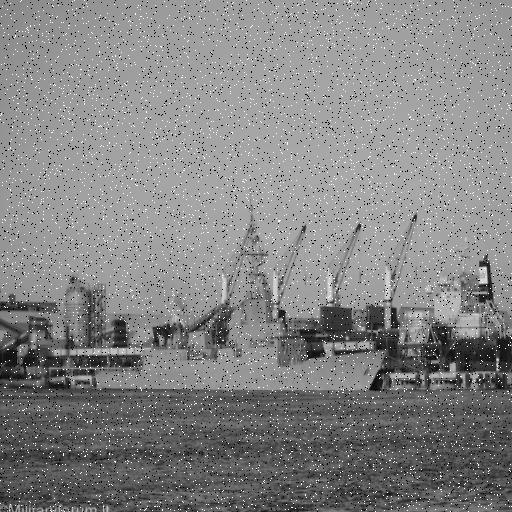Fragata: (91, 224, 392, 399)
